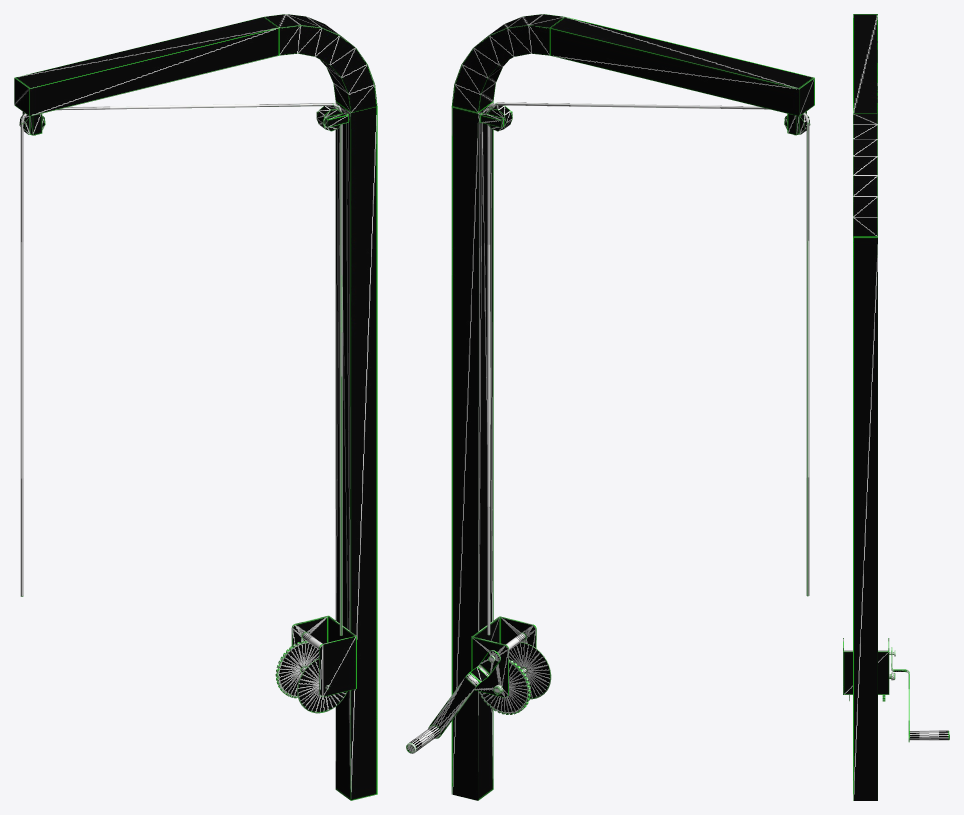
File: cancauBom.fbx
3 views of the same model, side by side, from view 1: azimuth 30°, elevation 25°; view 2: azimuth 150°, elevation 25°; view 3: azimuth 270°, elevation 25° (orthographic). The views are drawn at different scales.
Visible parts, largest first — view 1: Boss-Extrude4, Sweep1, Boss-Extrude7, Chamfer1; view 2: Boss-Extrude4, Sweep1, Chamfer1, Boss-Extrude7, Fillet3; view 3: Boss-Extrude4, Boss-Extrude7, Fillet3.
Boxes of the visible parts, left/top/right/bottom form: Boss-Extrude4: left=14, top=14, right=377, bottom=800; Sweep1: left=20, top=103, right=342, bottom=635; Boss-Extrude7: left=291, top=615, right=356, bottom=697; Chamfer1: left=275, top=640, right=347, bottom=713; Boss-Extrude4: left=451, top=14, right=814, bottom=800; Sweep1: left=487, top=102, right=809, bottom=635; Chamfer1: left=479, top=642, right=551, bottom=714; Boss-Extrude7: left=471, top=616, right=536, bottom=697; Fillet3: left=406, top=650, right=500, bottom=753; Boss-Extrude4: left=853, top=14, right=877, bottom=800; Boss-Extrude7: left=843, top=638, right=895, bottom=694; Fillet3: left=891, top=647, right=949, bottom=742.
Bounding box in the file's own units: 26.28 × 56.1 × 8.39.
1 material, 1 textured.
